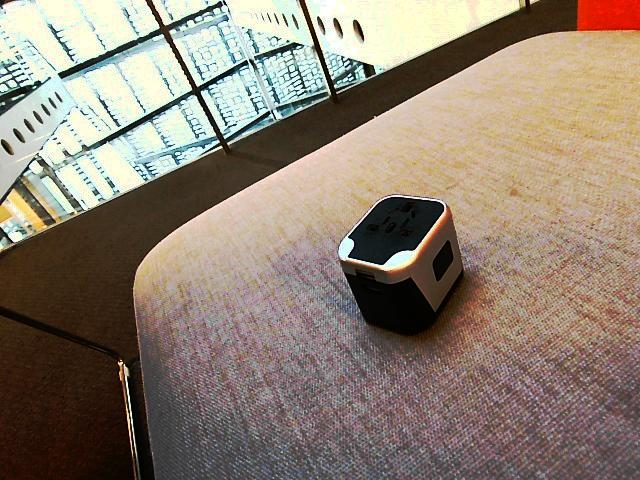adapter: (336, 193, 464, 335)
